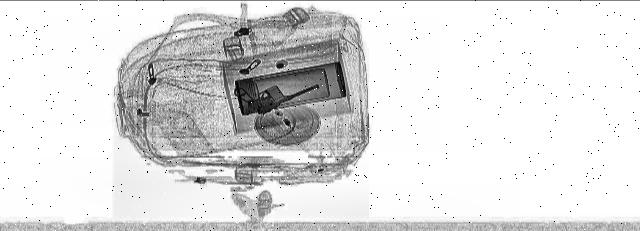Gun: (207, 72, 329, 115)
